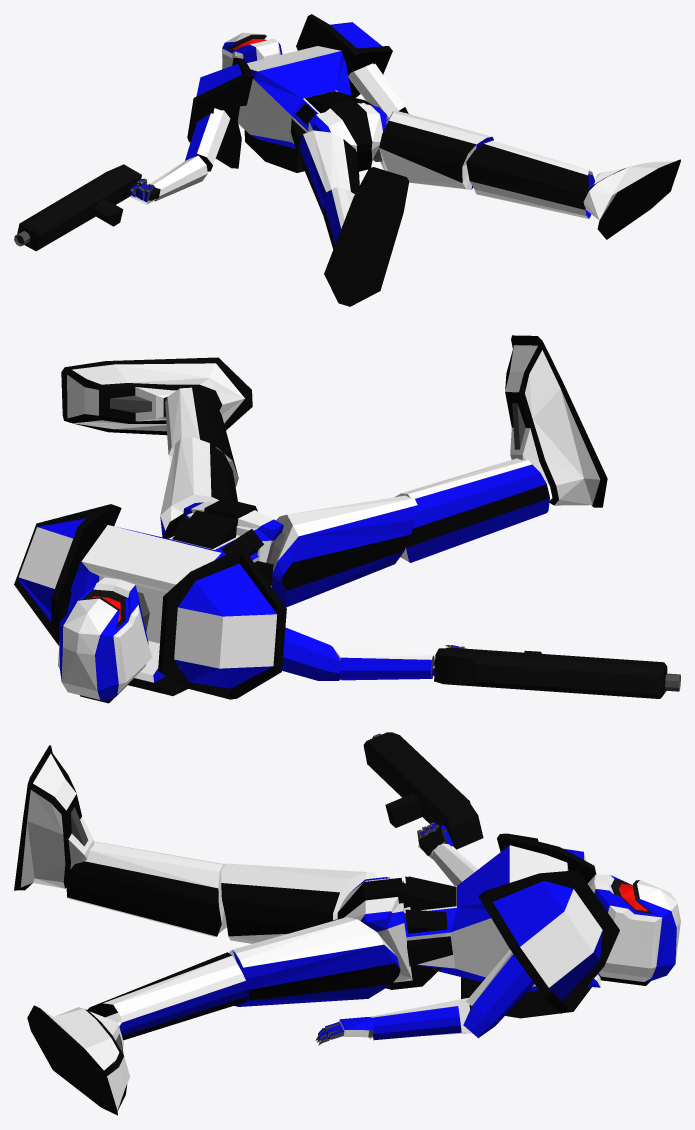
File: robots_000010.obj
3 renders of one model, top to bottom at view 1: azimuth 30°, elevation 25°; view 2: azimuth 150°, elevation 25°; view 3: azimuth 270°, elevation 25°, orthographic. The views are drawn at different scales.
Visible parts, largest first — view 1: Chest_plate_Cube.004, R_Foot_Cube, R_Shin.002_Cube.029, R_Thigh.002_Cube.027, Cube_Cube.001, R_Foot.002_Cube.035, Cube.002_Cube.059, R_Thigh_Cube.005, Cube_Cube.021, Pelvis_Cube.006, L_Arm_Cube.014, R_Arm_Cube.002 (+3 smaller); view 2: Cube.002_Cube.059, Chest_plate_Cube.004, R_Foot.002_Cube.035, R_Thigh_Cube.005, R_Foot_Cube, R_Shin_Cube.007, Cube_Cube.001, Head_base_Cube.022, Cube_Cube.021, R_Thigh.002_Cube.027, R_Shin.002_Cube.029, R_Forearm_Cube.008 (+2 smaller); view 3: Cube_Cube.021, Chest_plate_Cube.004, R_Thigh.002_Cube.027, R_Shin_Cube.007, R_Thigh_Cube.005, R_Foot_Cube, Head_base_Cube.022, Cube_Cube.001, R_Shin.002_Cube.029, R_Foot.002_Cube.035, Pelvis_Cube.006, L_Arm_Cube.014 (+4 smaller).
Boxes of the visible parts, x1,y1,x2,y2 form: Chest_plate_Cube.004: (238, 46, 373, 172); R_Foot_Cube: (324, 167, 409, 306); R_Shin.002_Cube.029: (466, 140, 594, 218); R_Thigh.002_Cube.027: (379, 110, 493, 189); Cube_Cube.001: (14, 164, 160, 251); R_Foot.002_Cube.035: (583, 159, 680, 239); Cube.002_Cube.059: (187, 58, 253, 168); R_Thigh_Cube.005: (299, 130, 359, 214); Cube_Cube.021: (296, 14, 392, 97); Pelvis_Cube.006: (308, 98, 386, 171); L_Arm_Cube.014: (348, 63, 408, 120); R_Arm_Cube.002: (185, 108, 230, 171); Cube.002_Cube.059: (158, 550, 286, 699); Chest_plate_Cube.004: (67, 510, 273, 695); R_Foot.002_Cube.035: (61, 357, 252, 435); R_Thigh_Cube.005: (271, 495, 417, 607); R_Foot_Cube: (505, 335, 607, 507); R_Shin_Cube.007: (394, 458, 549, 562); Cube_Cube.001: (434, 648, 680, 698); Head_base_Cube.022: (58, 577, 152, 703); Cube_Cube.021: (14, 504, 121, 645); R_Thigh.002_Cube.027: (160, 437, 237, 536); R_Shin.002_Cube.029: (165, 387, 238, 486); R_Forearm_Cube.008: (331, 645, 434, 680); Cube_Cube.021: (478, 870, 619, 1013); Chest_plate_Cube.004: (404, 845, 600, 1018); R_Thigh.002_Cube.027: (229, 917, 400, 1006); R_Shin_Cube.007: (66, 841, 226, 937); R_Thigh_Cube.005: (221, 863, 378, 943); R_Foot_Cube: (14, 745, 94, 890); Head_base_Cube.022: (587, 874, 680, 985); Cube_Cube.001: (363, 732, 483, 855); R_Shin.002_Cube.029: (87, 952, 248, 1040); R_Foot.002_Cube.035: (27, 1005, 130, 1115); Pelvis_Cube.006: (337, 877, 440, 989); L_Arm_Cube.014: (463, 949, 534, 1038).
Bounding box in the file's own units: 3.85 × 0.9504 × 3.
